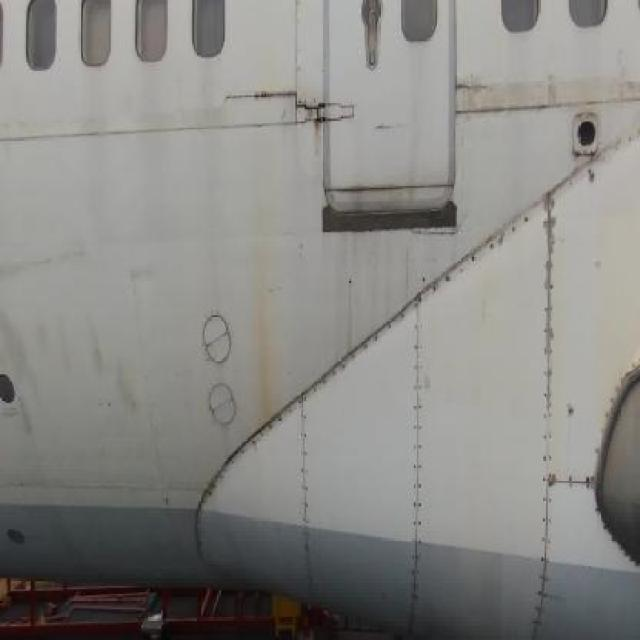Missing-Rivet: (537, 181, 560, 628), (405, 292, 430, 626), (432, 215, 531, 298), (322, 309, 404, 393), (211, 412, 286, 502), (292, 383, 319, 592), (565, 456, 593, 504)
Rust: (241, 201, 284, 416), (302, 99, 336, 172)
Scartch: (1, 297, 144, 466), (457, 73, 568, 133), (0, 231, 88, 291), (610, 35, 638, 128), (121, 252, 168, 292)
